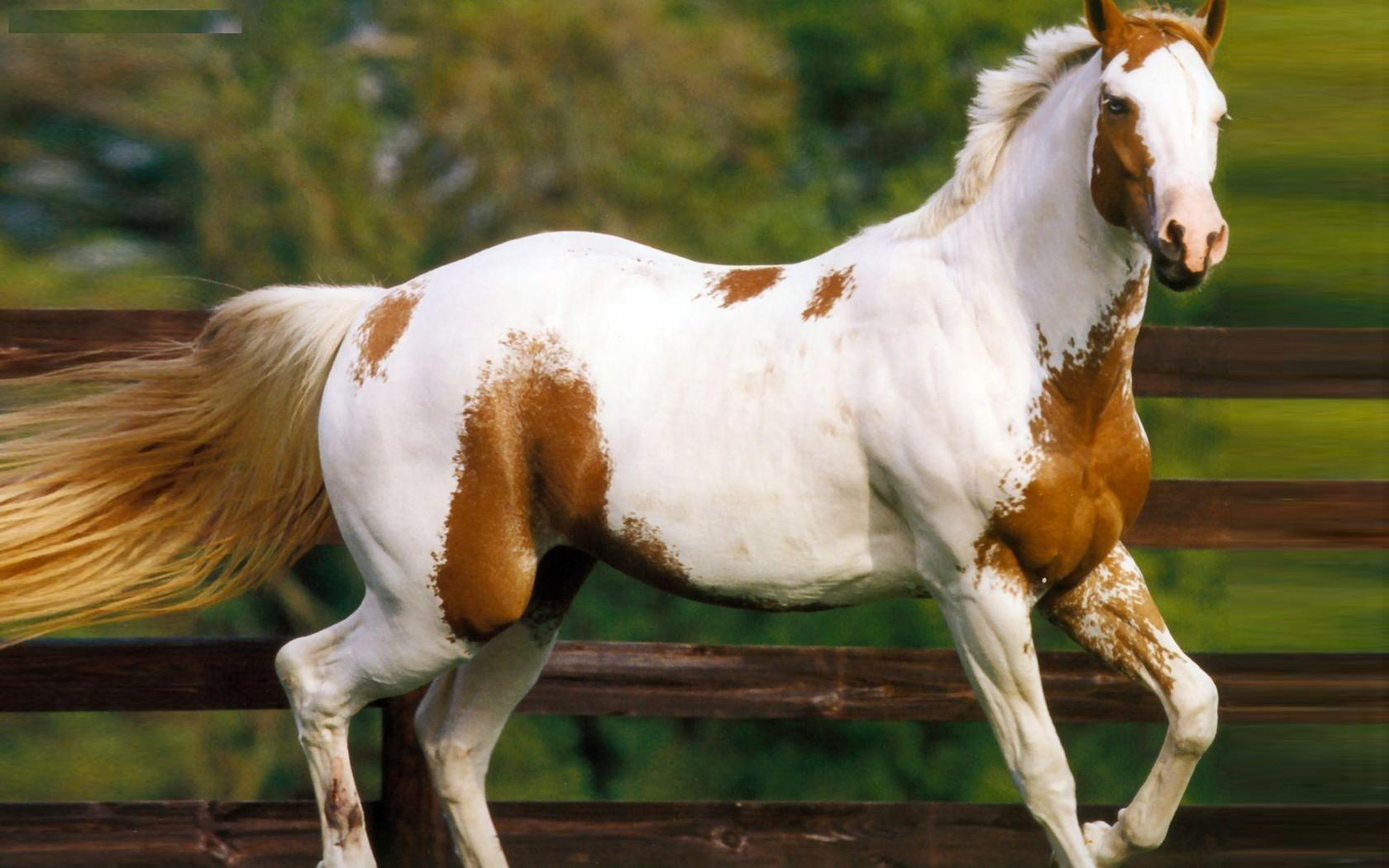horse: (0, 0, 1251, 868)
